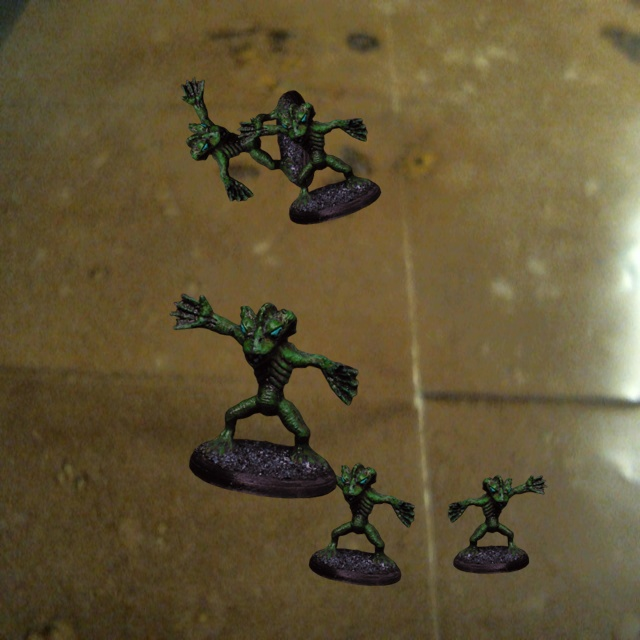pieza_juego: (170, 293, 358, 498), (237, 102, 380, 224), (181, 77, 315, 201), (297, 457, 414, 585), (448, 475, 547, 573)
